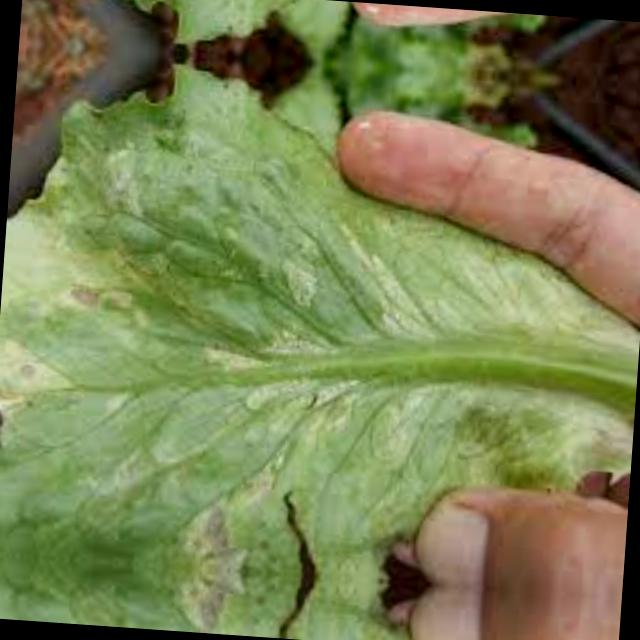Downy_mildew: (0, 69, 640, 578), (0, 554, 304, 638), (284, 577, 413, 640), (149, 0, 304, 36)
